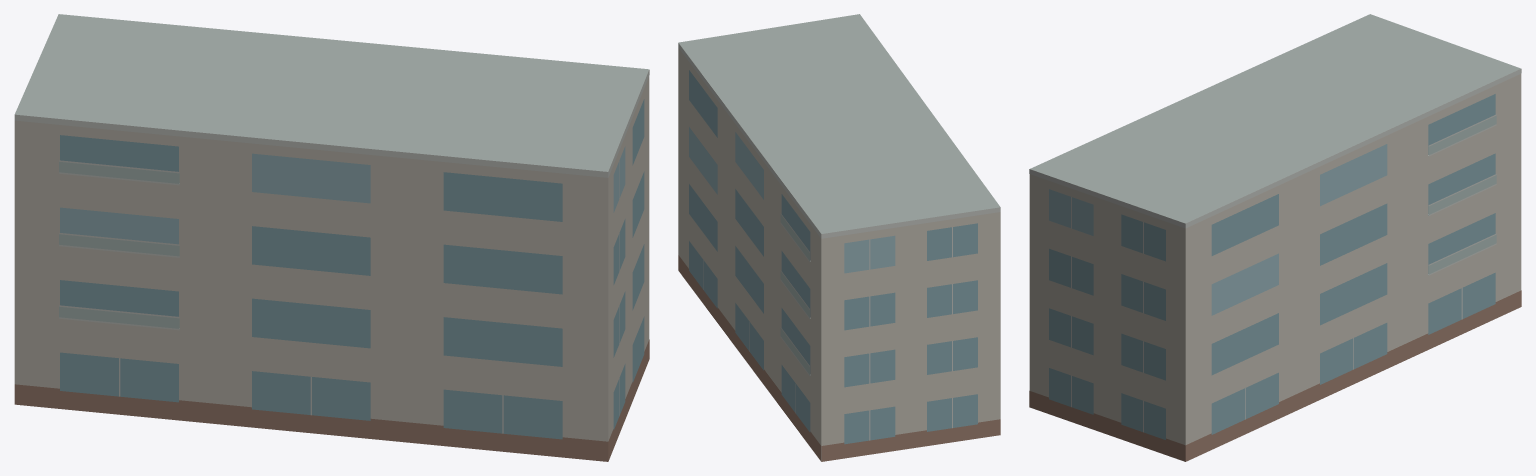
File: survey-upis-32582392.glb
The picture shows the model from 3 angles, left to right: view 1: azimuth 30°, elevation 25°; view 2: azimuth 150°, elevation 25°; view 3: azimuth 270°, elevation 25°; orthographic projection. The views are drawn at different scales.
Visible parts, largest first — view 1: survey-upis-32582392.tmp; view 2: survey-upis-32582392.tmp; view 3: survey-upis-32582392.tmp.
Boxes of the visible parts, x1=… form: survey-upis-32582392.tmp: x1=14, y1=14, x2=649, y2=461; survey-upis-32582392.tmp: x1=678, y1=14, x2=1000, y2=461; survey-upis-32582392.tmp: x1=1029, y1=14, x2=1521, y2=461.
Bounding box in the file's own units: 22.42 × 11.88 × 22.23.
